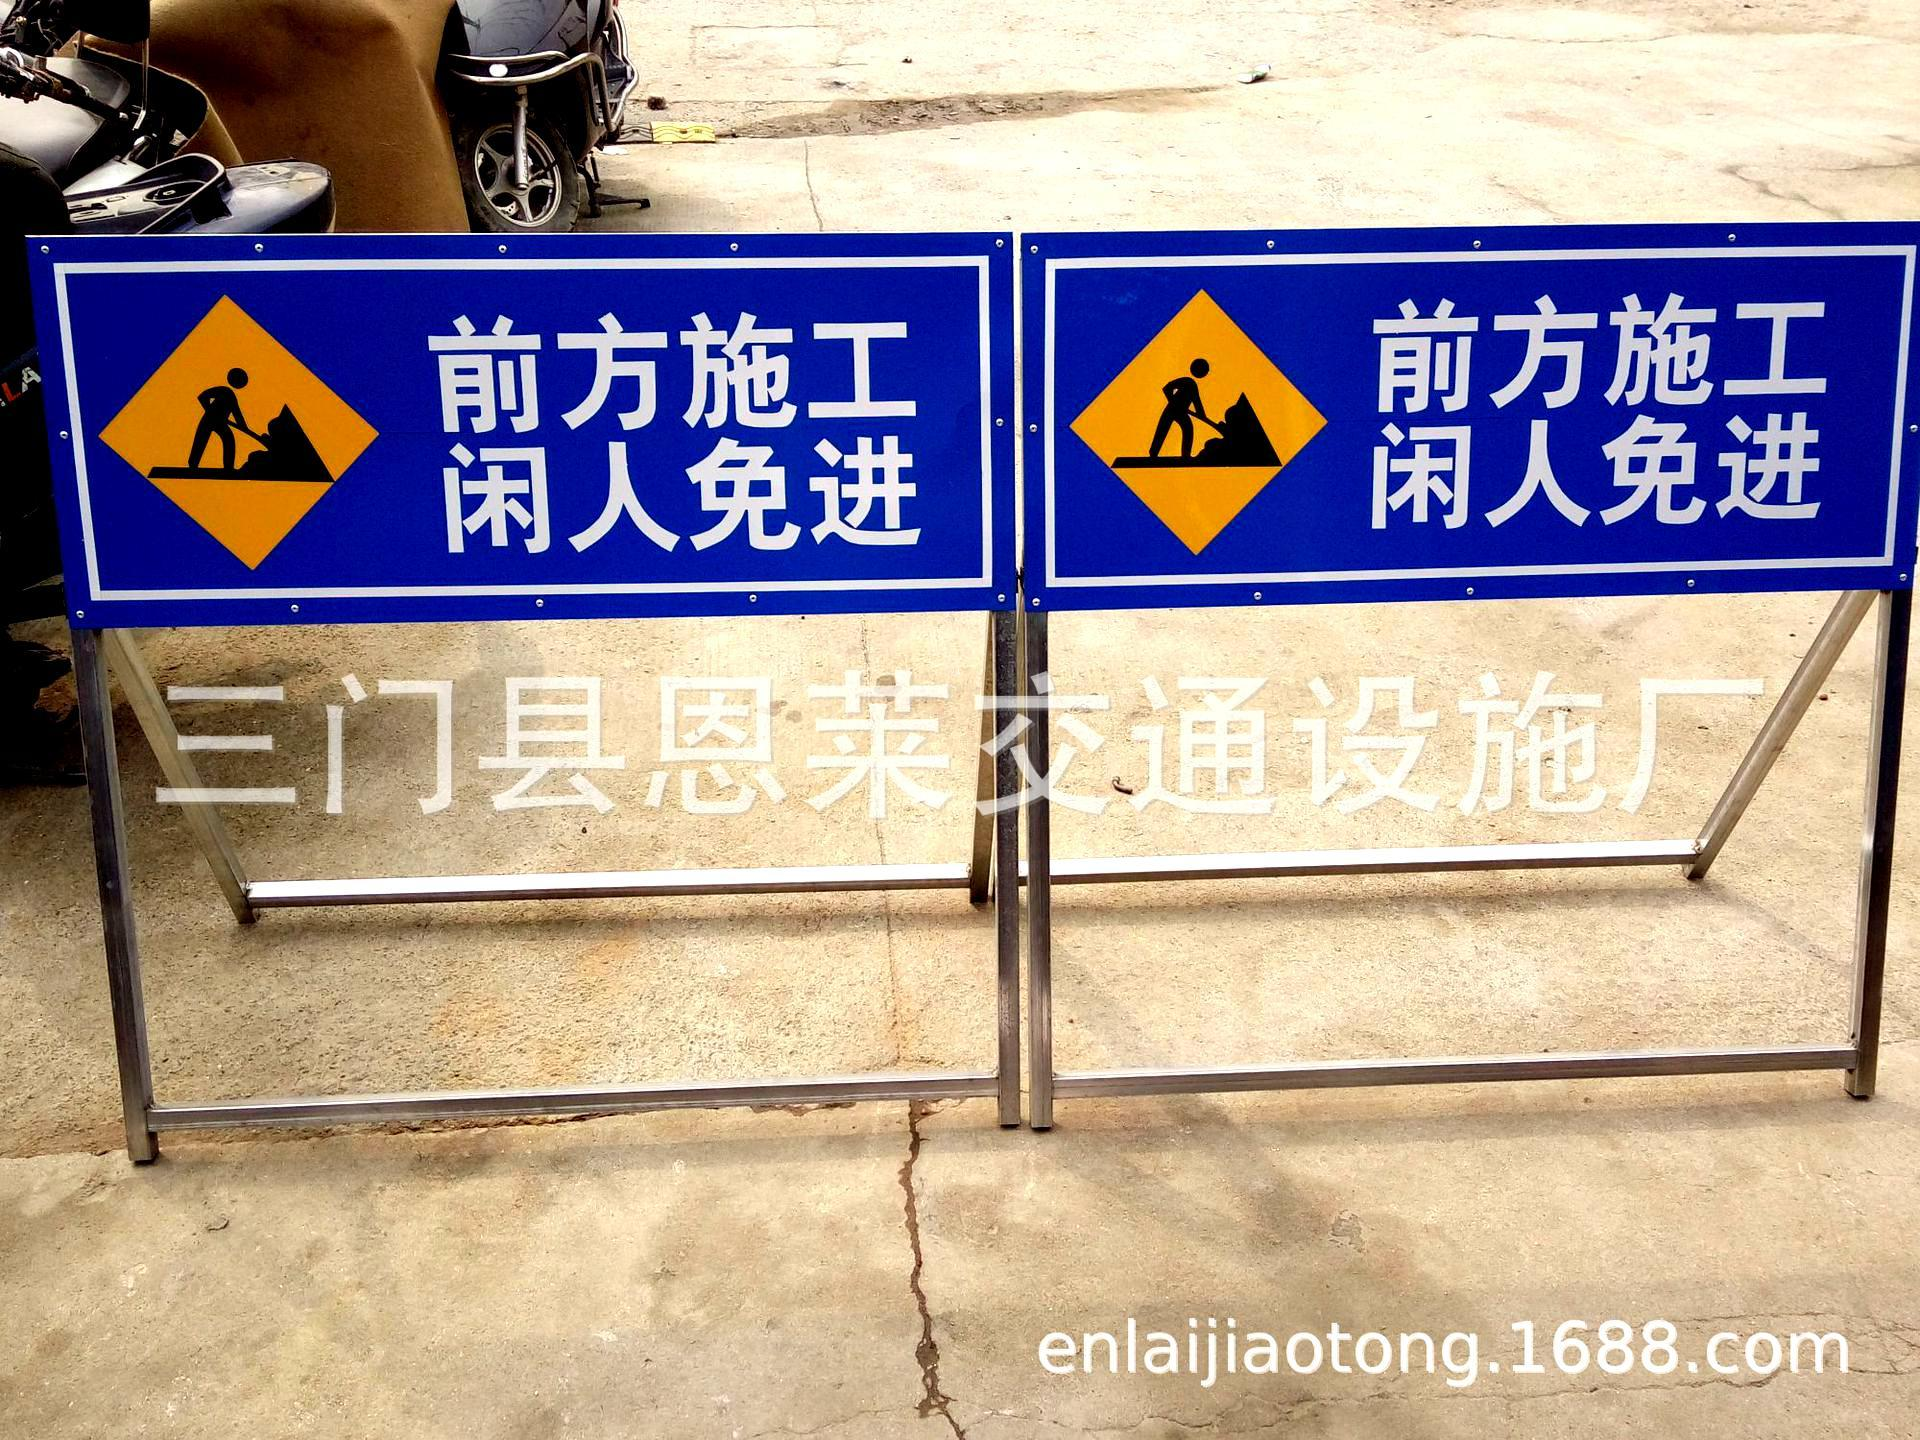sign: (33, 213, 1002, 616), (1023, 218, 1920, 582)
